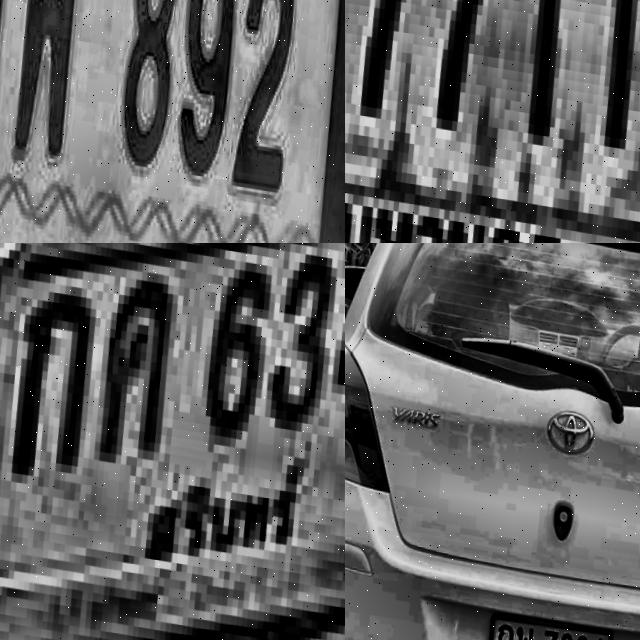license-plate: (0, 243, 345, 640), (0, 0, 345, 243), (345, 0, 640, 243), (477, 605, 615, 640)
